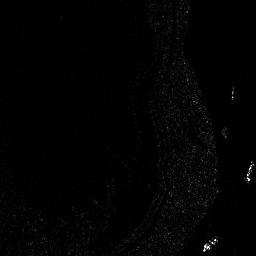ship: (245, 159, 254, 183)
